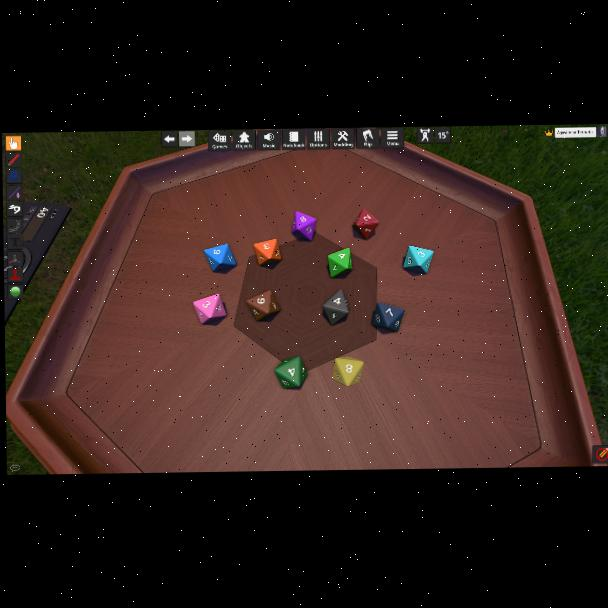d8: (274, 357, 307, 389), (246, 290, 279, 322), (193, 293, 226, 325), (372, 302, 404, 333), (322, 289, 349, 325), (204, 244, 236, 274), (332, 356, 363, 386), (403, 245, 433, 275), (352, 208, 379, 239), (253, 239, 281, 267), (327, 248, 351, 278), (292, 210, 315, 241)
